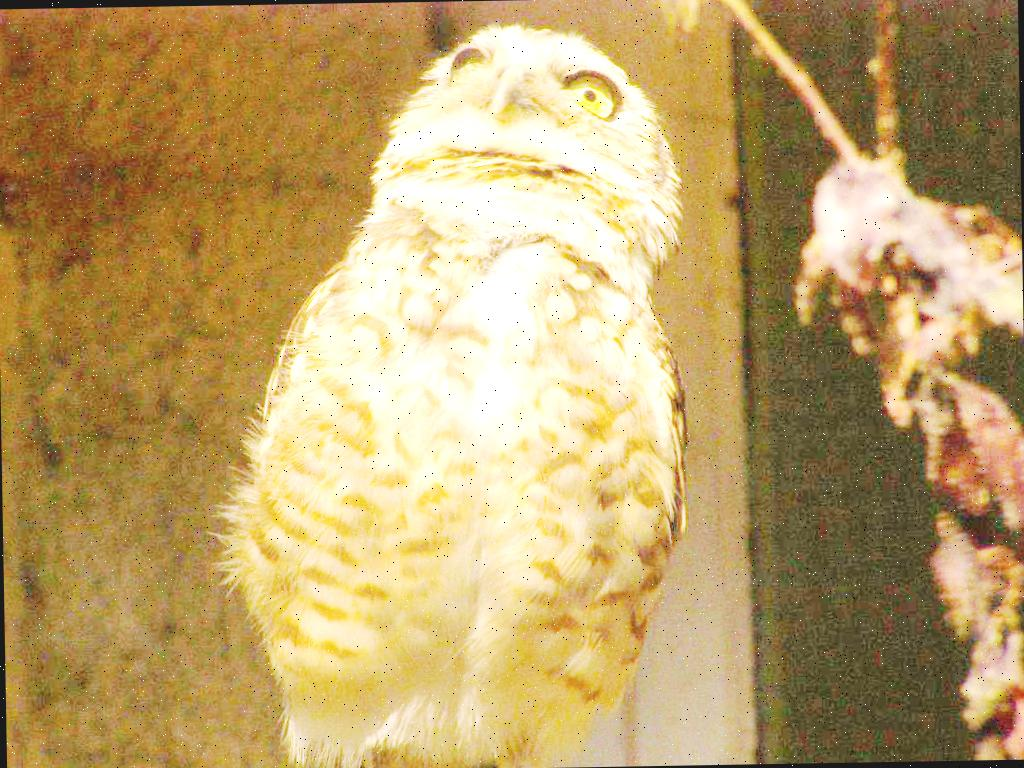Owl: (218, 19, 730, 764)
